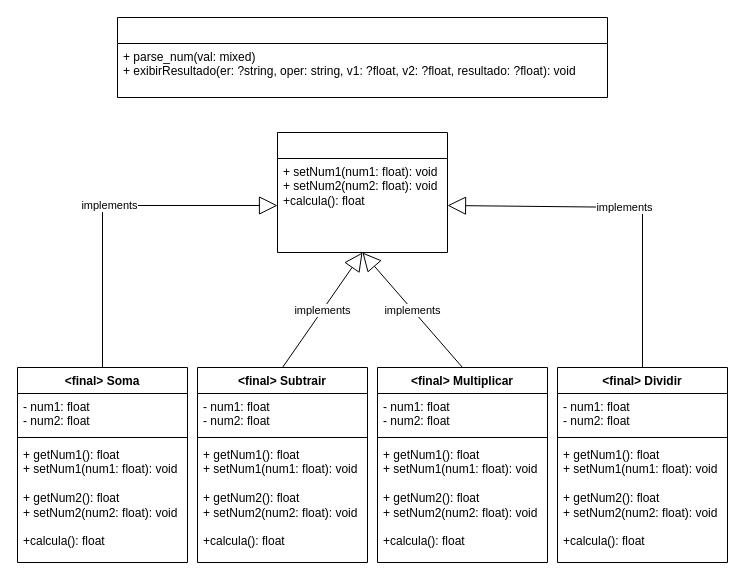
The diagram is 745 pixels wide and 583 high, and some of its shapes have lost their labels. Here are the shapes that lost their labels. From the top down, the box of each, then its label:
(116, 16, 608, 98): <static> TrataeMostra
(276, 132, 448, 252): IOperacao
